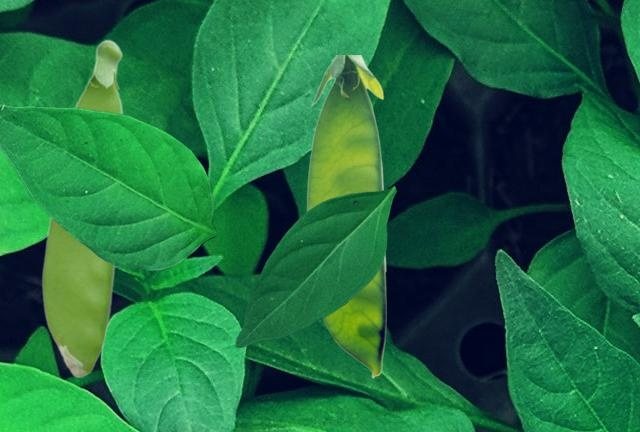pea: (41, 38, 124, 377), (306, 55, 385, 377)
